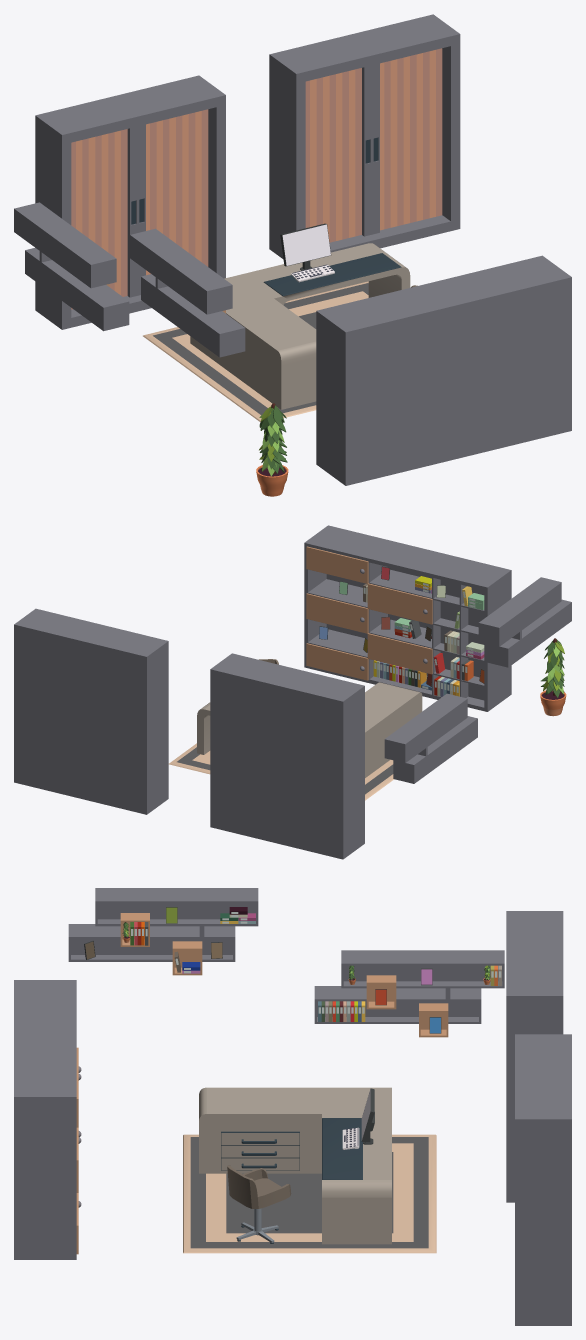
Rendered from KA_bureau_patron_V2.fbx.
3 renders of one model, top to bottom at view 1: azimuth 30°, elevation 25°; view 2: azimuth 150°, elevation 25°; view 3: azimuth 270°, elevation 25°, orthographic. The views are drawn at different scales.
Parts seen in each view (by area): view 1: Object003, Box017, Box018, Box009, Box015, Box016, Box008, Cylinder001, Box020; view 2: Object003, Box017, Box018, Box016, Box015, Box009, Cylinder001, Box008; view 3: Box009, Object003, Box017, Box008, Box015, Box016, Box018, Box014, Box020.
Boxes of the visible parts, <box> form: Object003: <box>316,255,571,485</box>; Box017: <box>269,14,460,259</box>; Box018: <box>35,75,225,329</box>; Box009: <box>190,243,410,409</box>; Box015: <box>130,228,245,357</box>; Box016: <box>14,202,129,331</box>; Box008: <box>143,281,368,422</box>; Cylinder001: <box>256,403,288,496</box>; Box020: <box>280,223,331,270</box>; Object003: <box>304,525,511,711</box>; Box017: <box>14,608,168,814</box>; Box018: <box>210,653,364,859</box>; Box016: <box>384,693,477,783</box>; Box015: <box>478,577,571,667</box>; Box009: <box>197,682,422,777</box>; Cylinder001: <box>540,638,566,716</box>; Box008: <box>169,743,393,800</box>; Box009: <box>199,1087,391,1244</box>; Object003: <box>14,980,81,1259</box>; Box017: <box>515,1034,571,1325</box>; Box008: <box>183,1134,436,1253</box>; Box015: <box>68,888,258,975</box>; Box016: <box>314,950,504,1037</box>; Box018: <box>506,911,563,1202</box>; Box014: <box>227,1165,291,1243</box>; Box020: <box>361,1088,374,1144</box>.
Size of the model in its own units: 231 by 95.42 by 234.
